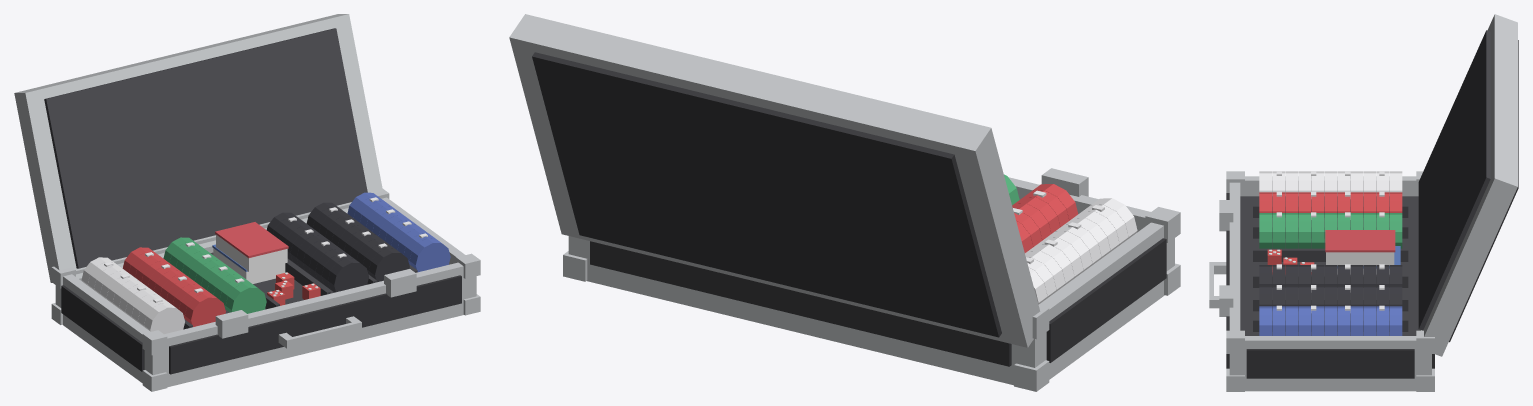
Rendered from poker-set-C5bfcK5V.glb.
The picture shows the model from 3 angles, left to right: view 1: azimuth 30°, elevation 25°; view 2: azimuth 150°, elevation 25°; view 3: azimuth 270°, elevation 25°; orthographic projection. The views are drawn at different scales.
Parts seen in each view (by area): view 1: LidFoam, LidShell, PanelFront, WallFront, Floor, PanelLeft, WallLeft, DeckRedBack, Chip.033, Chip.055, DeckRedBody, Chip.011 (+14 smaller); view 2: LidPanel, LidShell, PanelBack, Floor, PanelLeft, WallBack, WallLeft, WallFront, CornerB.001, LatchL, CornerT, CornerB.003 (+6 smaller); view 3: LidFoam, LidShell, PanelRight, FoamBed, WallRight, WallFront, DeckRedBack, Floor, Divider.002, DeckRedBody, WallLeft, Chip.022 (+46 smaller).
Boxes of the visible parts, x1=… form: LidFoam: x1=44, y1=28, x2=367, y2=268; LidShell: x1=14, y1=14, x2=382, y2=282; PanelFront: x1=169, y1=275, x2=461, y2=374; WallFront: x1=147, y1=262, x2=476, y2=378; Floor: x1=63, y1=307, x2=463, y2=387; PanelLeft: x1=61, y1=285, x2=144, y2=371; WallLeft: x1=61, y1=274, x2=150, y2=374; DeckRedBack: x1=215, y1=222, x2=288, y2=258; Chip.033: x1=328, y1=258, x2=368, y2=292; Chip.055: x1=409, y1=238, x2=450, y2=272; DeckRedBody: x1=216, y1=234, x2=287, y2=271; Chip.011: x1=185, y1=293, x2=225, y2=326; LidPanel: x1=532, y1=52, x2=1001, y2=337; LidShell: x1=509, y1=14, x2=1040, y2=347; PanelBack: x1=590, y1=241, x2=1011, y2=366; Floor: x1=587, y1=269, x2=1164, y2=385; PanelLeft: x1=1046, y1=238, x2=1166, y2=362; WallBack: x1=568, y1=236, x2=1042, y2=373; WallLeft: x1=1038, y1=222, x2=1167, y2=367; WallFront: x1=1009, y1=177, x2=1174, y2=270; CornerB.001: x1=1014, y1=360, x2=1049, y2=391; LatchL: x1=1041, y1=168, x2=1088, y2=196; CornerT: x1=1145, y1=207, x2=1180, y2=242; CornerB.003: x1=563, y1=251, x2=587, y2=281; LidFoam: x1=1418, y1=30, x2=1490, y2=330; LidShell: x1=1419, y1=14, x2=1517, y2=356; PanelRight: x1=1246, y1=349, x2=1414, y2=378; FoamBed: x1=1240, y1=196, x2=1418, y2=335; WallRight: x1=1240, y1=336, x2=1420, y2=382; WallFront: x1=1229, y1=182, x2=1240, y2=375; DeckRedBack: x1=1325, y1=230, x2=1395, y2=252; Floor: x1=1245, y1=383, x2=1416, y2=391; Divider.002: x1=1253, y1=248, x2=1408, y2=261; DeckRedBody: x1=1326, y1=252, x2=1394, y2=265; WallLeft: x1=1240, y1=176, x2=1418, y2=196; Chip.022: x1=1259, y1=213, x2=1271, y2=248.
Size of the model in its own units: 0.508 by 0.3019 by 0.3976.
